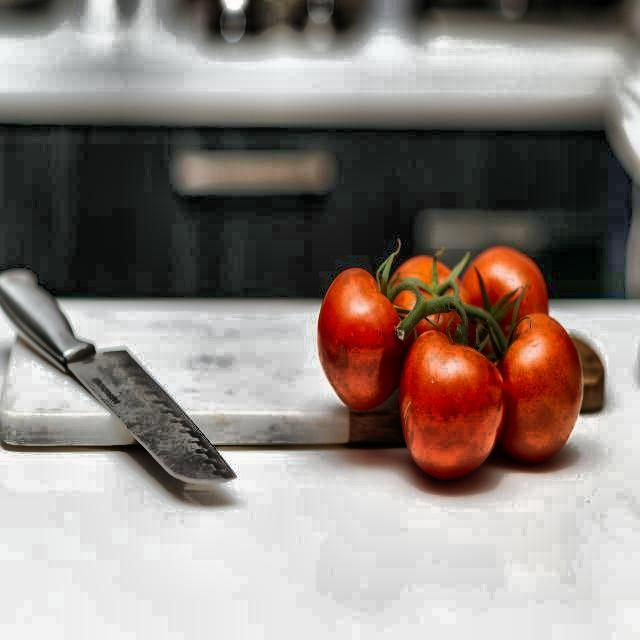knife: (0, 269, 242, 501)
